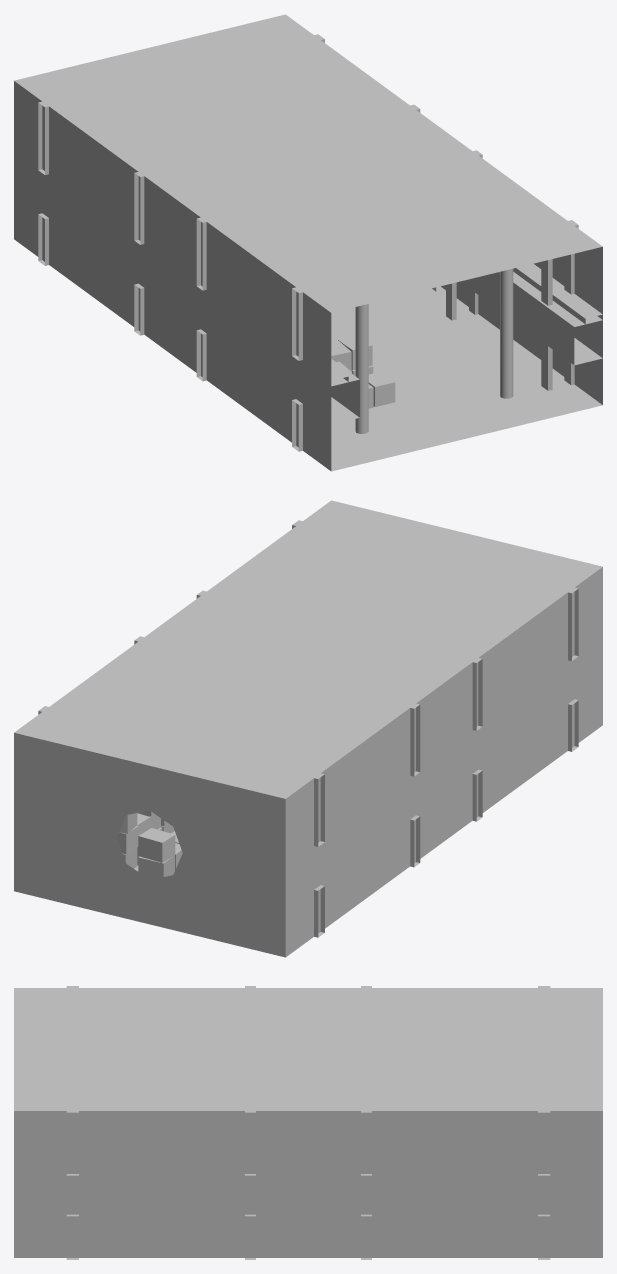
3 renders of one model, top to bottom at view 1: azimuth 30°, elevation 25°; view 2: azimuth 150°, elevation 25°; view 3: azimuth 270°, elevation 25°, orthographic. The views are drawn at different scales.
Visible parts, largest first — view 1: tube_B04; view 2: tube_B04; view 3: tube_B04.
Part boxes in pixels (x1,y1,x2,y2): tube_B04: (14, 14, 602, 471); tube_B04: (14, 500, 602, 957); tube_B04: (14, 986, 602, 1259).
Size of the model in its own units: 10184 by 5514 by 20000.
